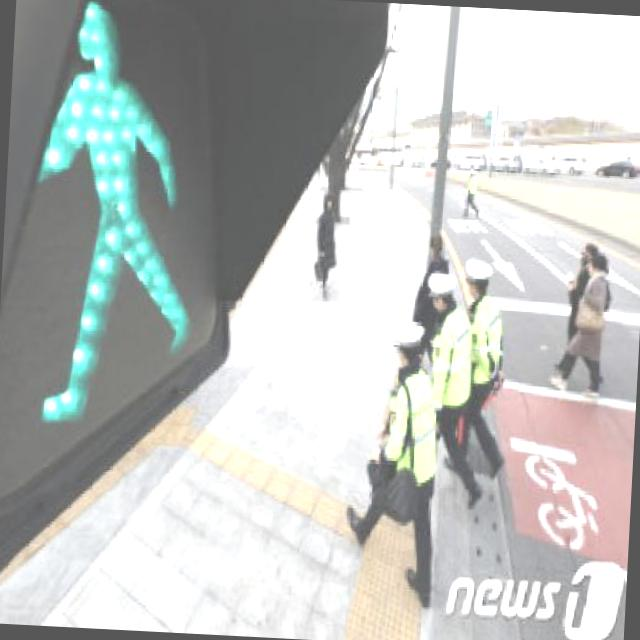Person: (349, 313, 442, 601), (417, 272, 488, 513), (460, 260, 514, 478), (548, 248, 614, 398), (314, 191, 340, 299)
